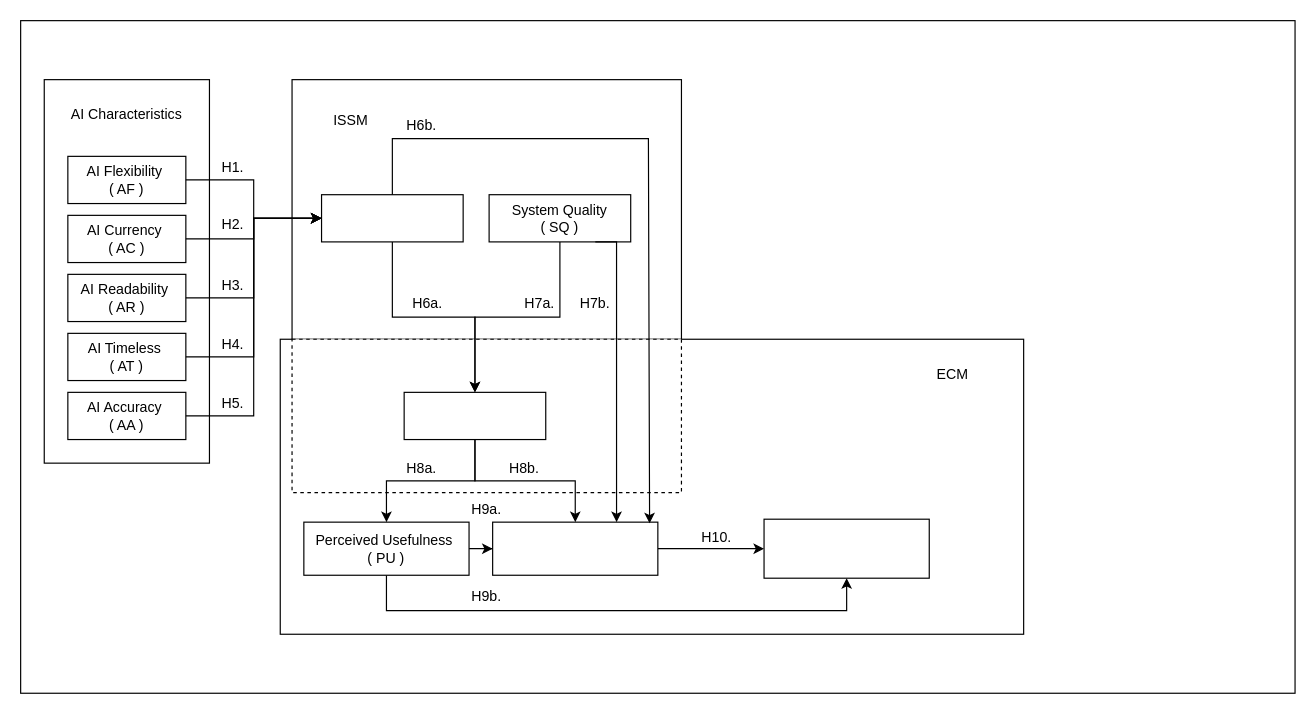
Image size: 1316x714. Some labels were removed from this diagram. Here are the shapes that lost their labels. From the top down, the centre of each, then its label:
point (391, 218): Information Quality ( IQ )
point (474, 415): Confirmation ( CONF )
point (574, 548): Satisfaction ( S )
point (846, 548): Continuance Intention ( CI )
